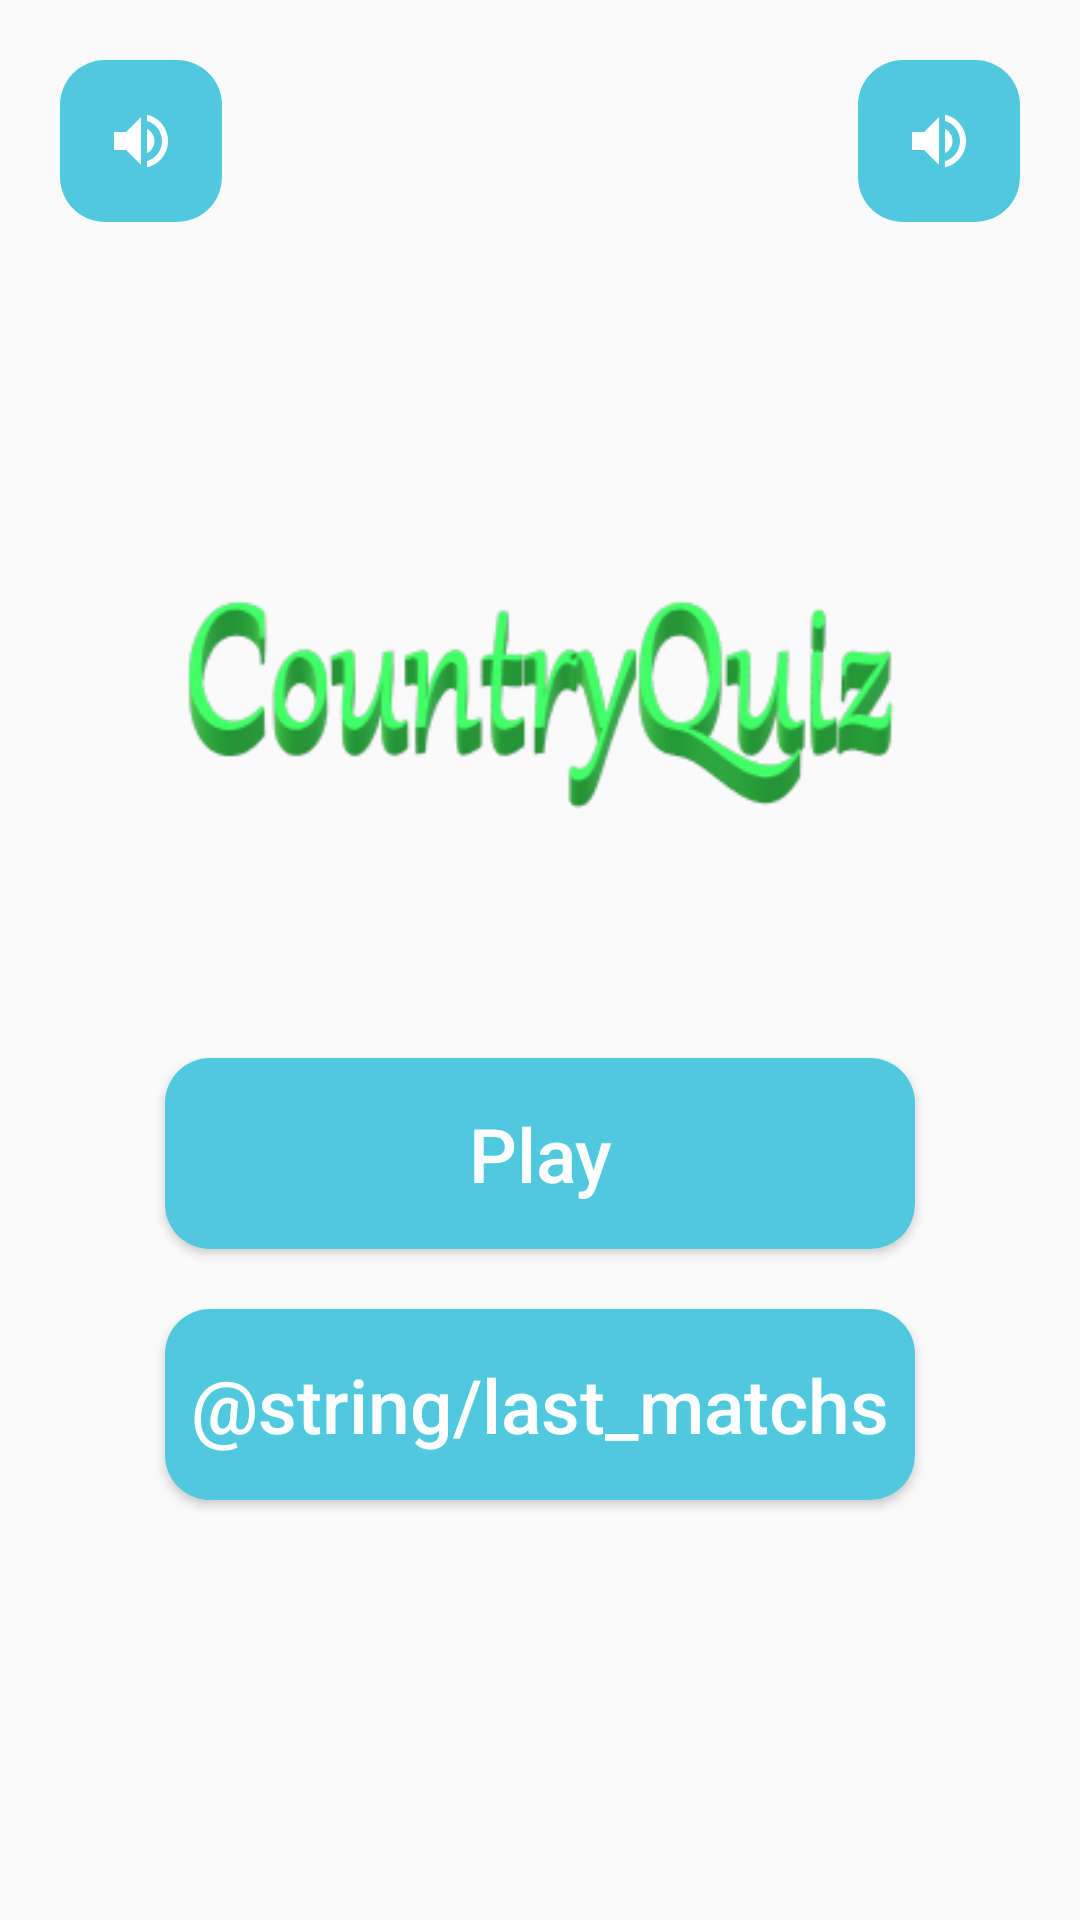

Screen size 1080 × 1920. Icon name, then its center in pixels as [x,y]:
volume: [141,141], [939,141]
